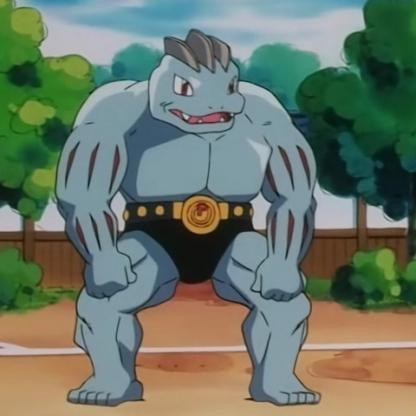Machoke: (63, 37, 323, 416)
